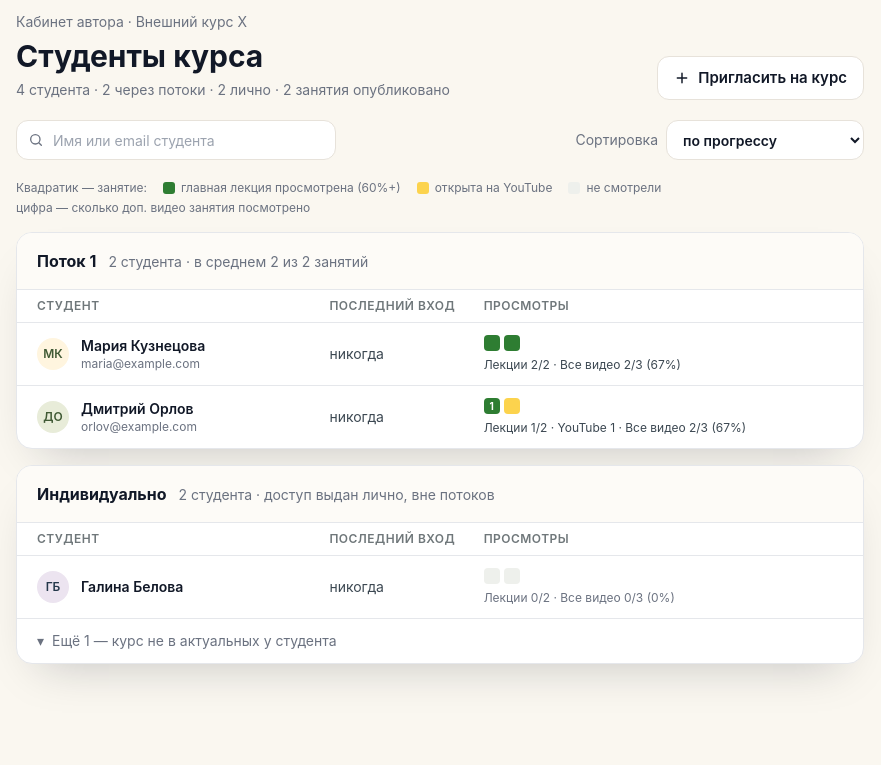
Test: CourseStudents › индивидуальные студенты без курса в актуальных — под стрелкой
Check: the text "Галина Белова" is shown, box [81,577,183,597]
Check: the text "Олег Смирнов" is not shown
Click the button "▾ Ещё 1 — курс не в актуальных у студента".
click(68, 640)  # box [17,618,863,663]
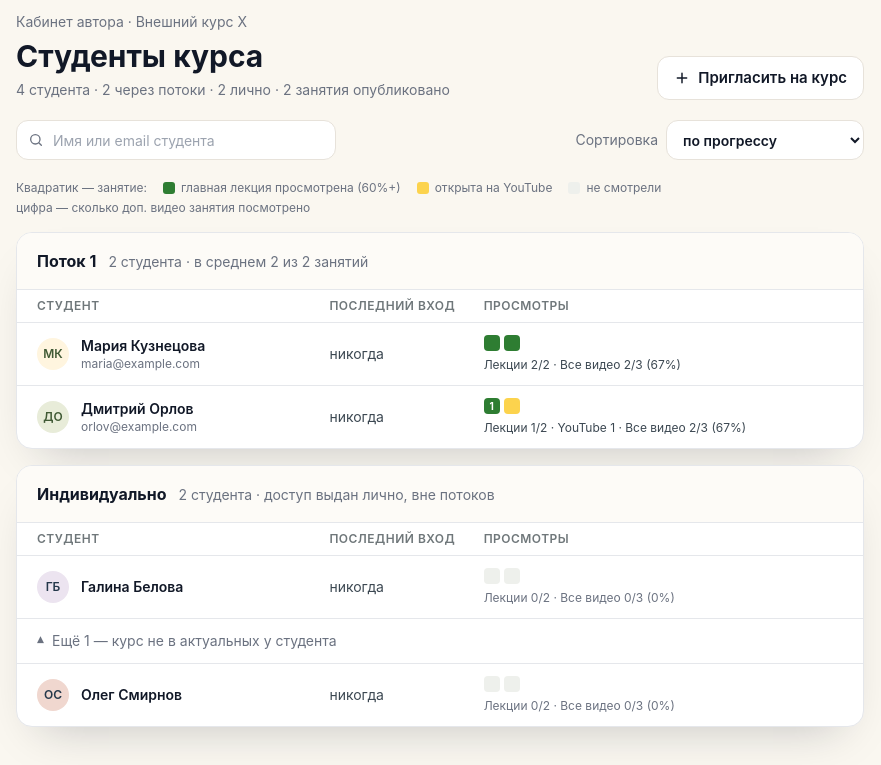
Check: the text "Олег Смирнов" is shown, box [81,685,182,705]
